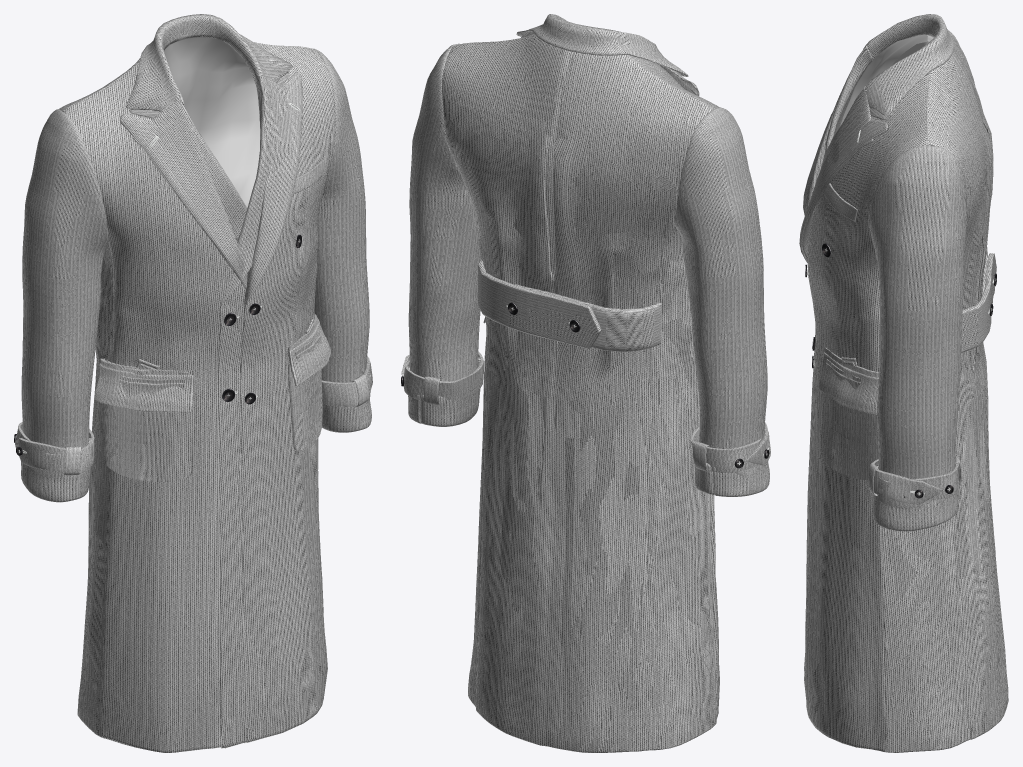
The model's file is polo_coat.glb.
The picture shows the model from 3 angles, left to right: view 1: azimuth 30°, elevation 25°; view 2: azimuth 150°, elevation 25°; view 3: azimuth 270°, elevation 25°; orthographic projection. The views are drawn at different scales.
Visible parts, largest first — view 1: 2Button_Lightly_padded, Lightly_Padded, peak, 6Button_Lightly_Padded, Structured, Patch, full, 2Button_Structured, CL2_3_4Button, 6button_Structured_Inverted_box_pleat, notch, Full_Sleeve_Strap_with_buttons (+6 smaller); view 2: 6button_Structured_Inverted_box_pleat, 2Button_vent_Unconstructed_novent, Lightly_Padded, 2button_vent_Structured_novent, 2button_vent_lightly_padded_novent, Martingale_Belt, Structured, 2button_vent_Structured, Full_Sleeve_Strap_with_buttons, cuffed, notch, peak (+2 smaller); view 3: 2Button_Lightly_padded, 6button_Structured_Inverted_box_pleat, Lightly_Padded, 2Button_vent_Unconstructed_novent, Structured, Patch, 2Button_Structured, 2button_vent_lightly_padded_novent, peak, notch, CL2_3_4Button, Full_Sleeve_Strap_with_buttons (+10 smaller).
Part boxes in pixels (box(x1,y1,x2,y2)): 2Button_Lightly_padded: box(102, 138, 334, 752); Lightly_Padded: box(21, 129, 369, 448); peak: box(119, 17, 303, 306); 6Button_Lightly_Padded: box(107, 117, 317, 752); Structured: box(29, 48, 362, 272); Patch: box(94, 314, 330, 482); full: box(164, 37, 260, 207); 2Button_Structured: box(64, 43, 335, 475); CL2_3_4Button: box(126, 23, 292, 307); 6button_Structured_Inverted_box_pleat: box(59, 43, 313, 737); notch: box(134, 14, 286, 305); Full_Sleeve_Strap_with_buttons: box(15, 356, 372, 475); 6button_Structured_Inverted_box_pleat: box(442, 34, 716, 752); 2Button_vent_Unconstructed_novent: box(449, 35, 715, 751); Lightly_Padded: box(408, 123, 767, 448); 2button_vent_Structured_novent: box(442, 41, 716, 752); 2button_vent_lightly_padded_novent: box(460, 35, 716, 739); Martingale_Belt: box(478, 259, 661, 351); Structured: box(416, 43, 760, 227); 2button_vent_Structured: box(442, 40, 709, 430); Full_Sleeve_Strap_with_buttons: box(401, 351, 770, 473); cuffed: box(408, 388, 769, 496); notch: box(520, 14, 695, 93); peak: box(521, 15, 699, 96); 2Button_Lightly_padded: box(804, 46, 889, 751); 6button_Structured_Inverted_box_pleat: box(882, 33, 1007, 752); Lightly_Padded: box(877, 223, 966, 479); 2Button_vent_Unconstructed_novent: box(883, 73, 1008, 750); Structured: box(869, 29, 966, 291); Patch: box(818, 347, 879, 479); 2Button_Structured: box(844, 52, 930, 715); 2button_vent_lightly_padded_novent: box(882, 47, 986, 743); peak: box(799, 16, 953, 262); notch: box(802, 14, 953, 257); CL2_3_4Button: box(811, 22, 951, 218); Full_Sleeve_Strap_with_buttons: box(868, 456, 961, 504).
Size of the model in its own units: 3.54 by 6.51 by 1.82.
Materials: 5 (2 with a texture image).
